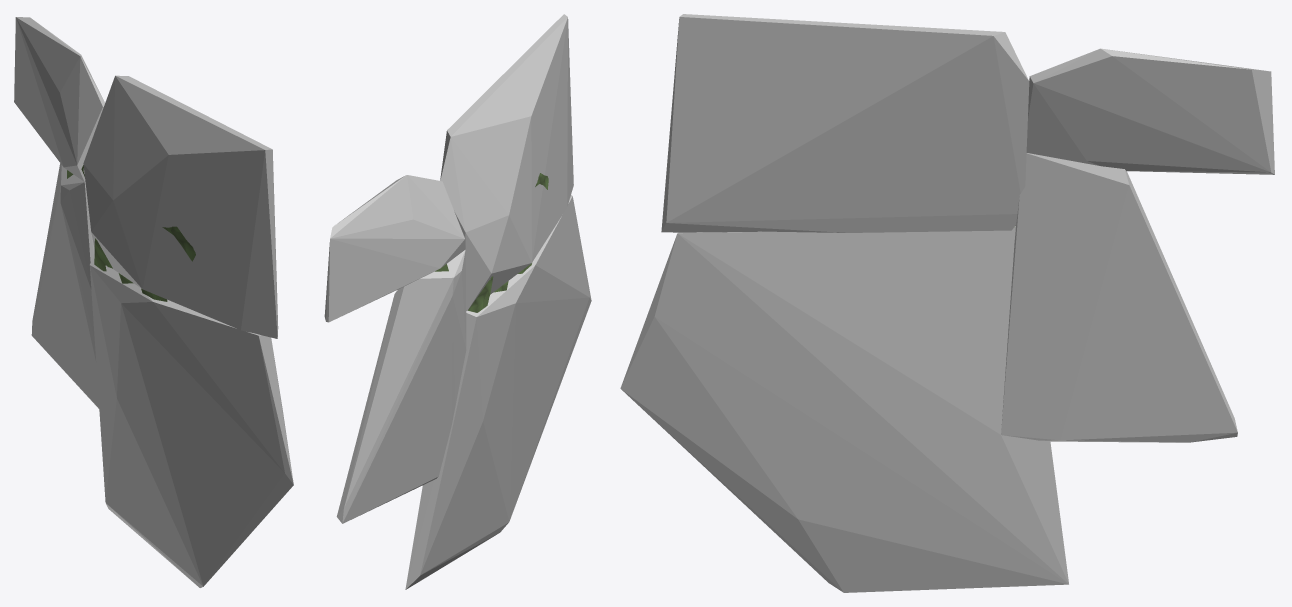
File: SM_Env_Leaves_Preset_03.fbx
3 renders of one model, left to right at view 1: azimuth 30°, elevation 25°; view 2: azimuth 150°, elevation 25°; view 3: azimuth 270°, elevation 25°, orthographic. The views are drawn at different scales.
Visible parts, largest first — view 1: SM_Env_Leaves_Preset_03_ConvexHulls, SM_Env_Leaves_Preset_03; view 2: SM_Env_Leaves_Preset_03_ConvexHulls, SM_Env_Leaves_Preset_03; view 3: SM_Env_Leaves_Preset_03_ConvexHulls.
Part boxes in pixels (x1,y1,x2,y2): SM_Env_Leaves_Preset_03_ConvexHulls: (14, 17, 293, 587); SM_Env_Leaves_Preset_03: (67, 165, 195, 301); SM_Env_Leaves_Preset_03_ConvexHulls: (324, 14, 591, 589); SM_Env_Leaves_Preset_03: (435, 173, 548, 312); SM_Env_Leaves_Preset_03_ConvexHulls: (620, 14, 1274, 592).
Bounding box in the file's own units: 25.29 × 225 × 219.
2 materials, 1 textured.
